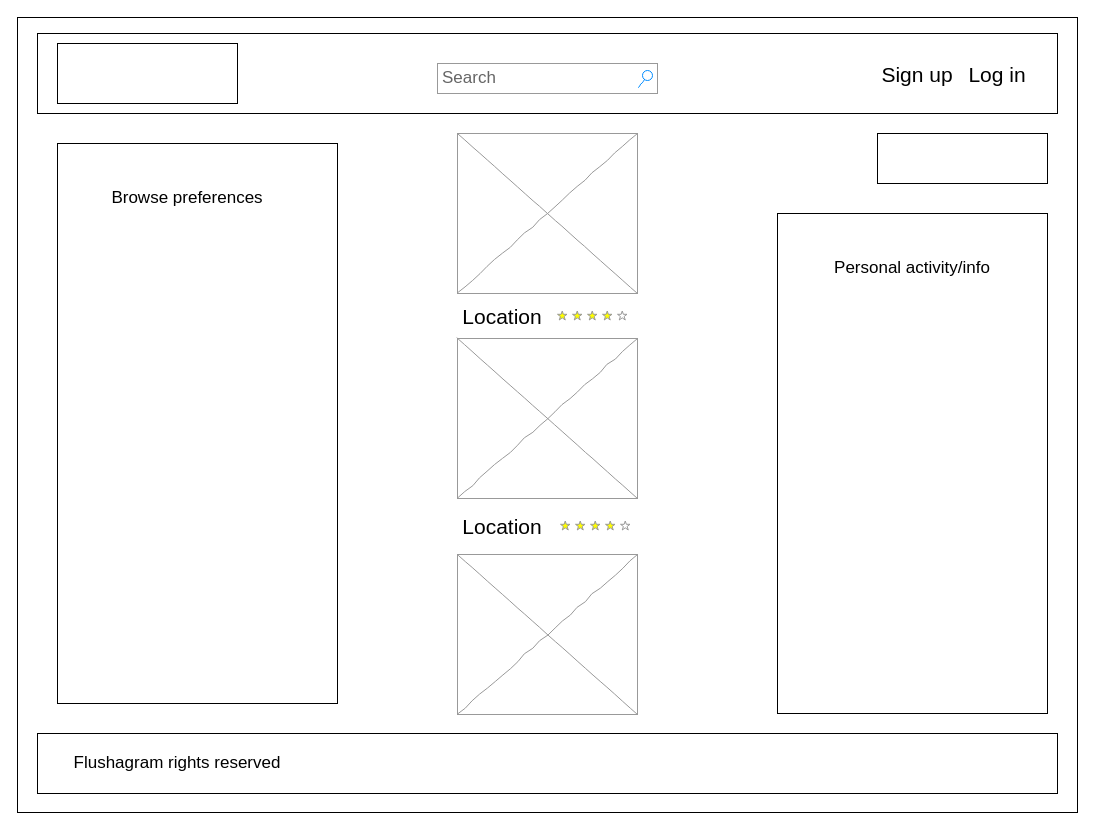
This 1095x830 diagram has some shape labels left out. Each missing label, with the centre of its shape:
"+ Create Bathroom" belongs at pixel 962 158.
"LOGO" belongs at pixel 147 73.
